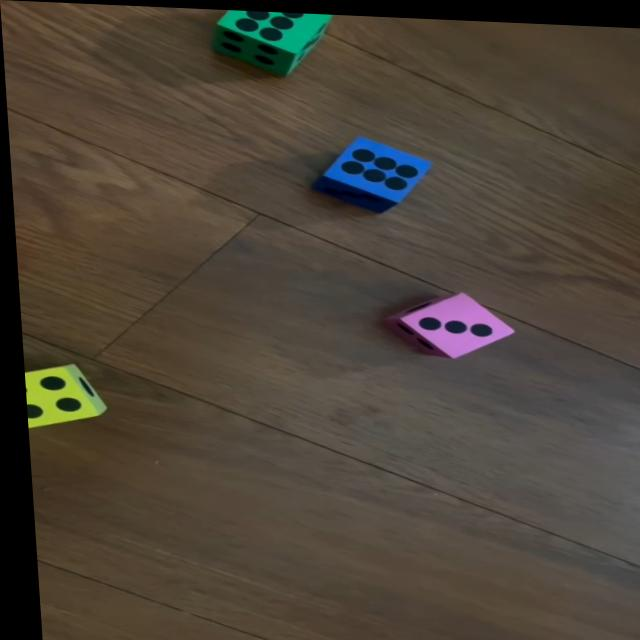blue_block: (308, 132, 432, 208)
